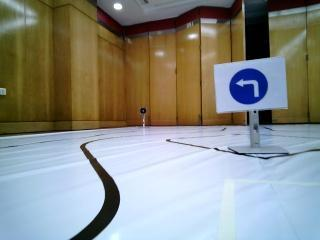left: (214, 67, 285, 106)
